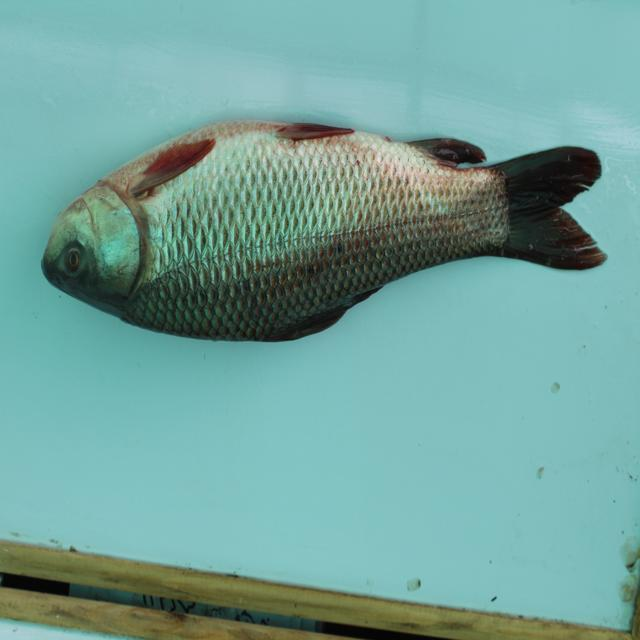Rohu: (51, 119, 608, 342)
